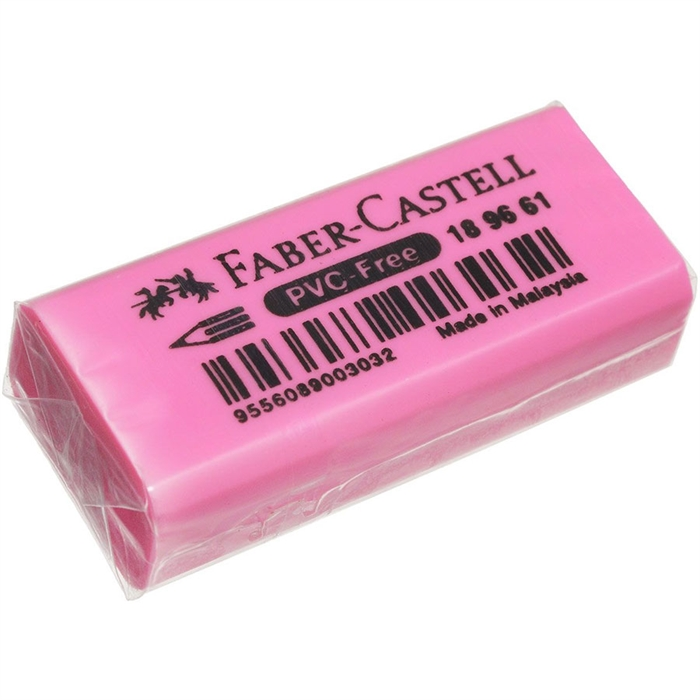eraser: (1, 97, 696, 599)
